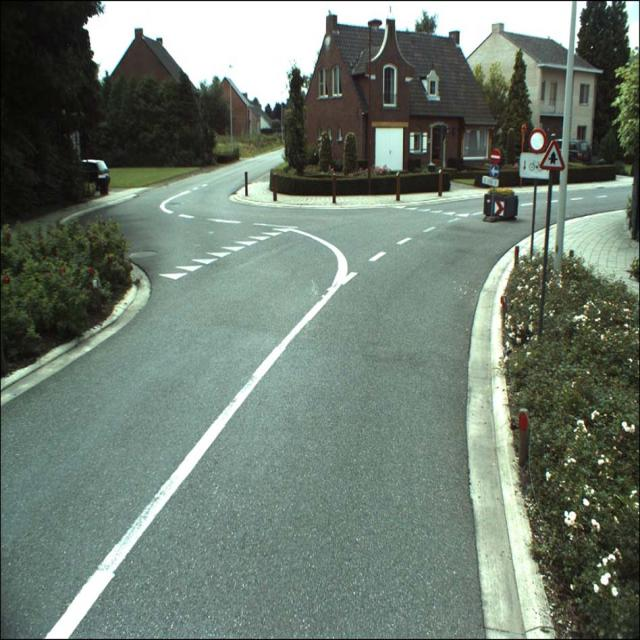girisyok: (490, 148, 501, 166)
sol: (490, 164, 500, 178)
